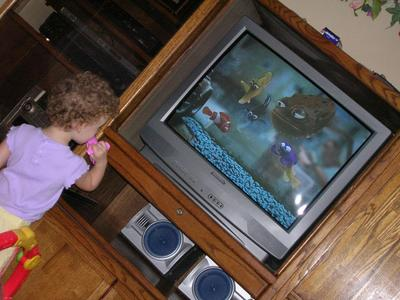person: (2, 75, 118, 277)
